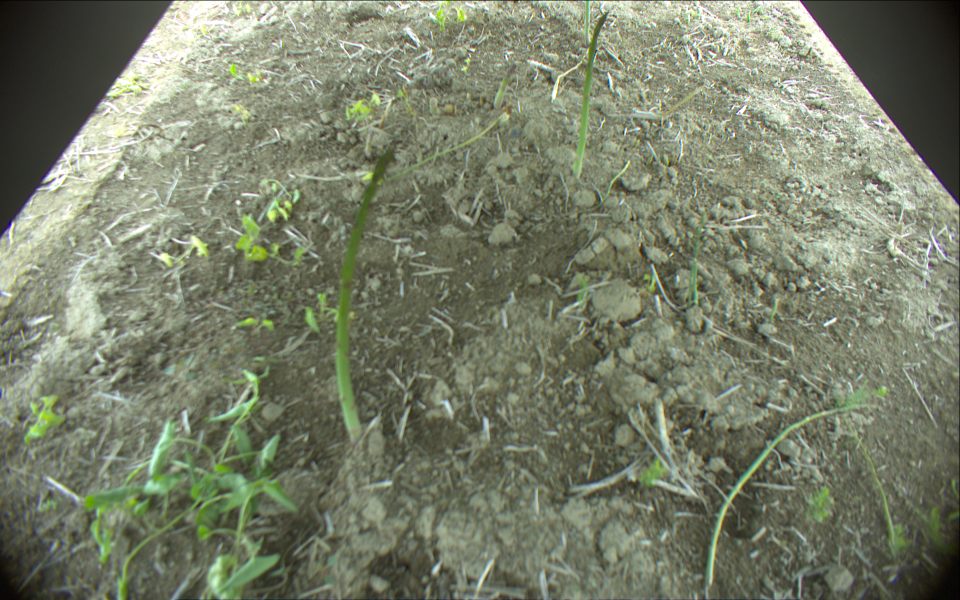aspa: (704, 405, 880, 588), (334, 141, 399, 442), (384, 117, 503, 183), (842, 421, 897, 547), (575, 11, 611, 174), (688, 205, 708, 309), (492, 63, 517, 110), (584, 1, 592, 45)
